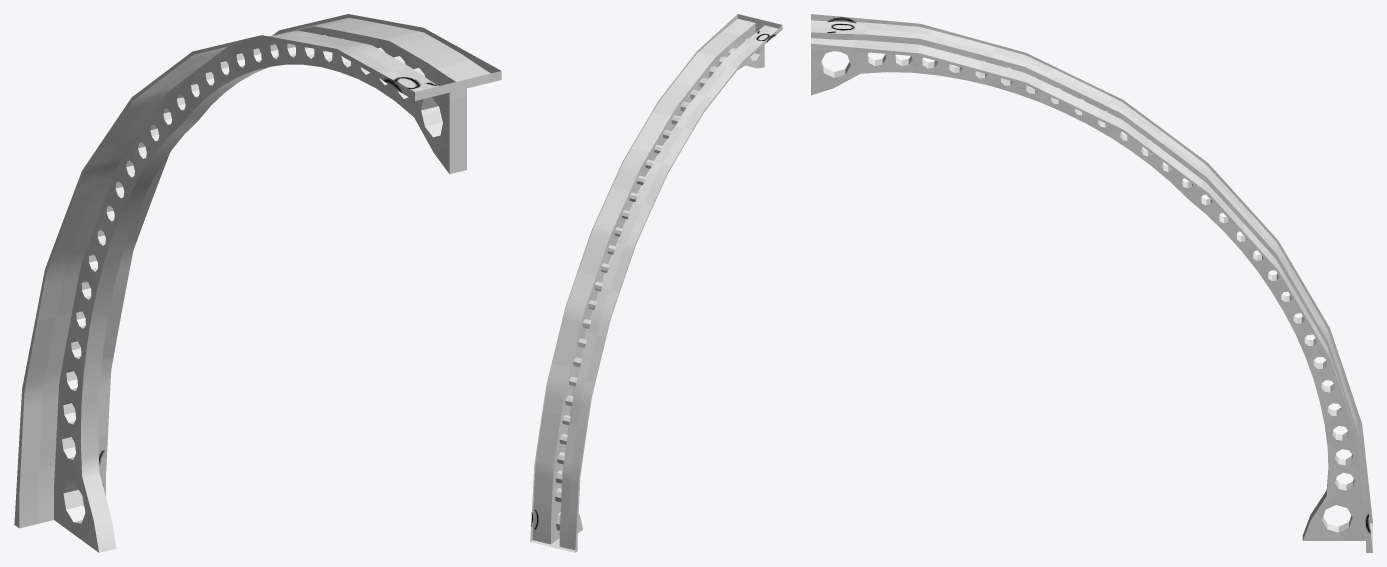
Rendered from enginehall_struss_arc.fbx.
3 renders of one model, left to right at view 1: azimuth 30°, elevation 25°; view 2: azimuth 150°, elevation 25°; view 3: azimuth 270°, elevation 25°, orthographic. The views are drawn at different scales.
Parts seen in each view (by area): view 1: enginehall_struss_arc; view 2: enginehall_struss_arc; view 3: enginehall_struss_arc.
Boxes of the visible parts, x1,y1,x2,y2 form: enginehall_struss_arc: (14, 14, 501, 552); enginehall_struss_arc: (530, 14, 782, 552); enginehall_struss_arc: (811, 14, 1372, 552).
Bounding box in the file's own units: 50 × 400 × 400.
